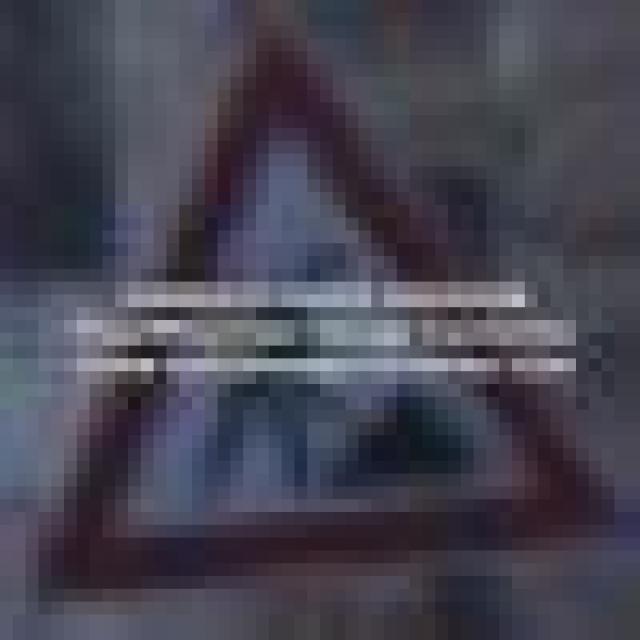road_work: (26, 13, 627, 576)
